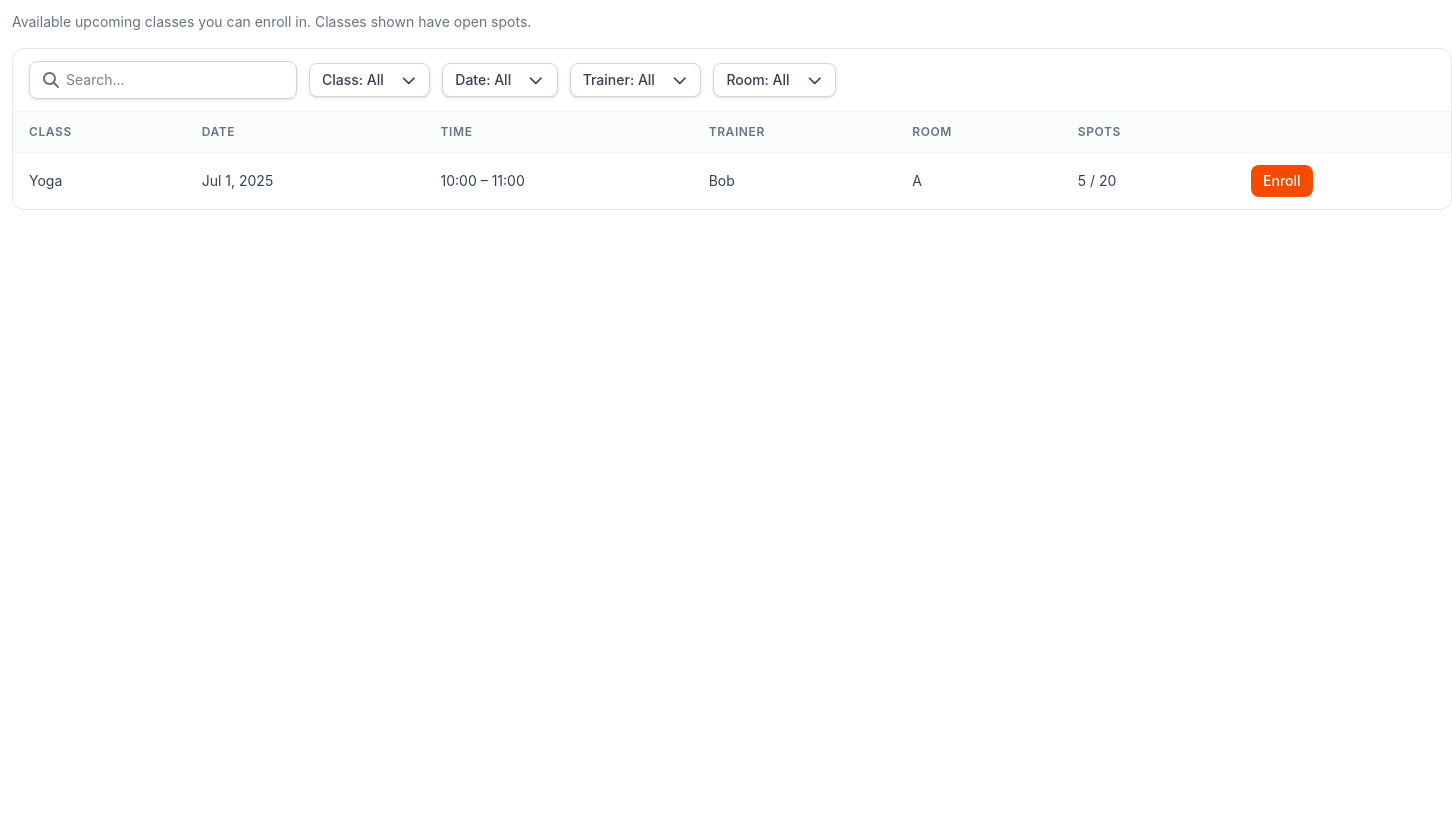
Test: ClassesBrowser › opens enroll modal with class details
Click the button "Enroll": (1282, 181) [1251,165,1313,197]
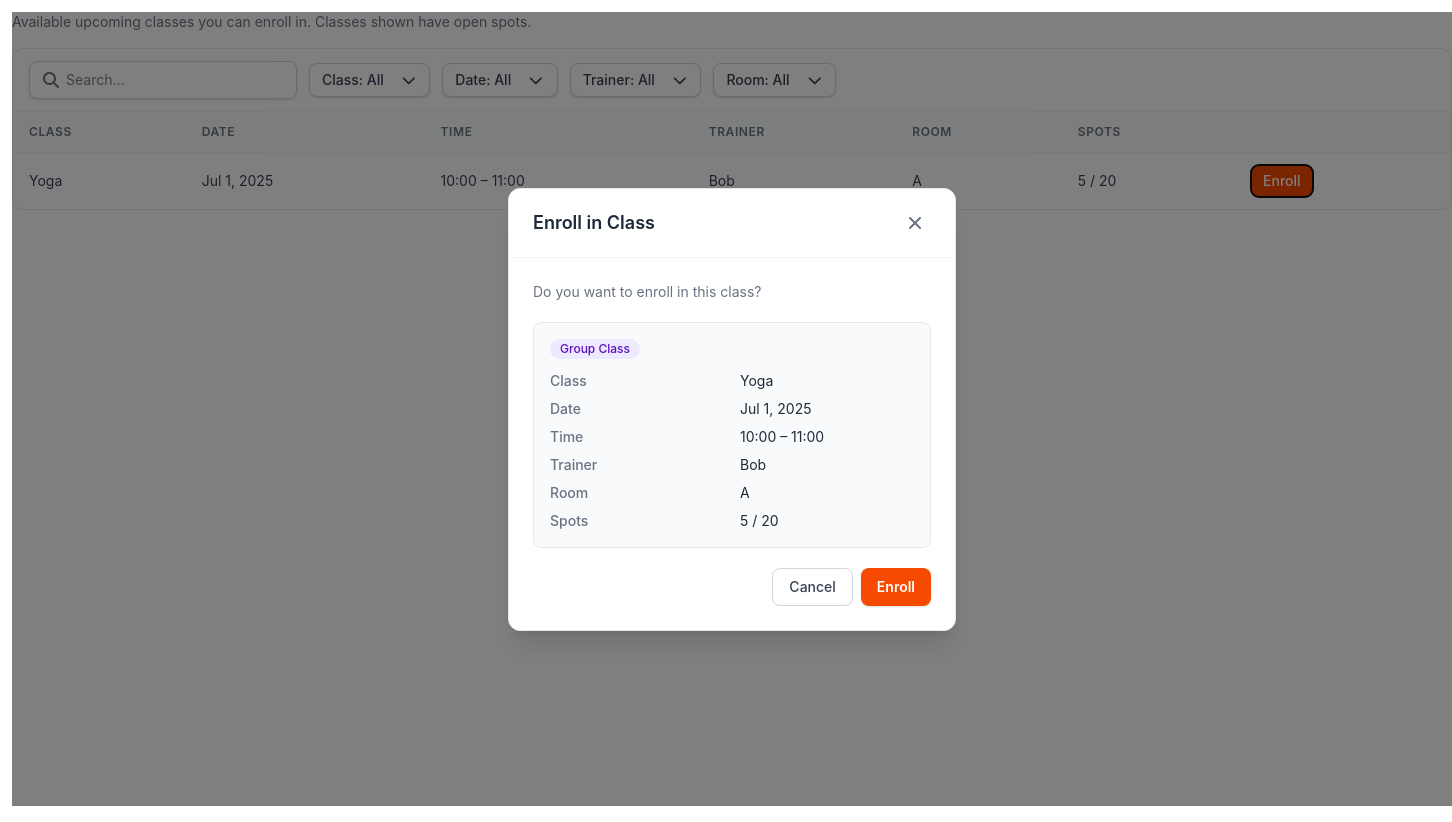
Check: the heading "Enroll in Class" is shown, box [533,208,655,236]
Check: the text "Do you want to enroll in this class?" is shown, box [533,282,762,300]
Check: the text "Group Class" is shown, box [550,338,640,358]
